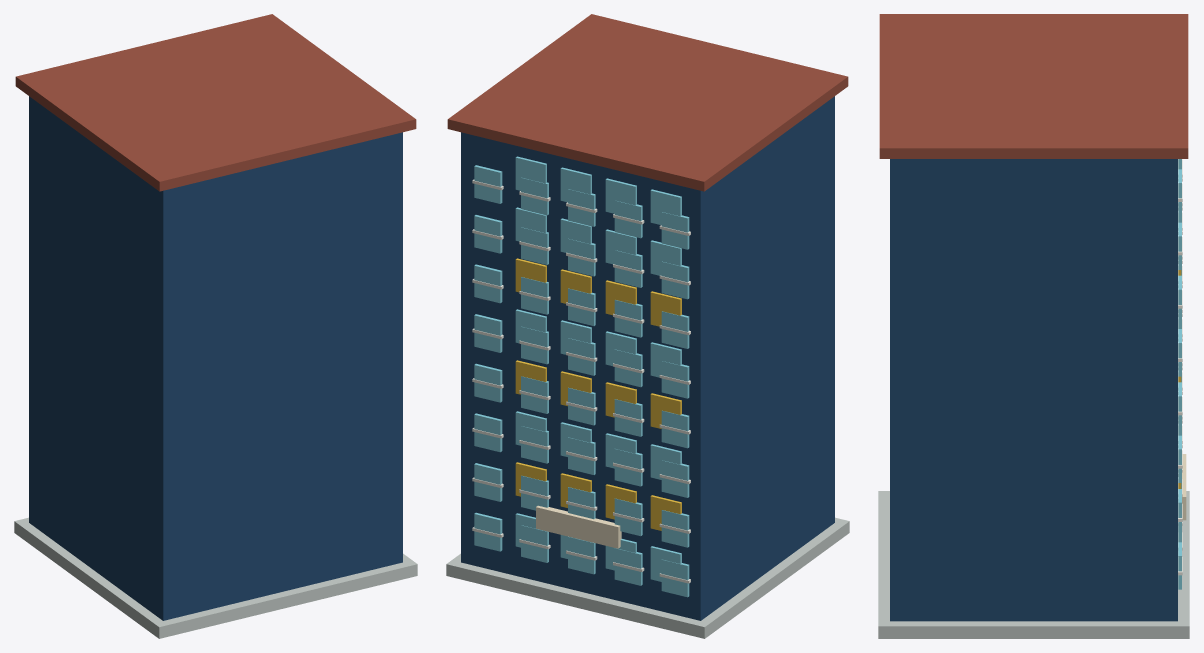
3 renders of one model, left to right at view 1: azimuth 30°, elevation 25°; view 2: azimuth 150°, elevation 25°; view 3: azimuth 270°, elevation 25°, orthographic. The views are drawn at different scales.
Visible parts, largest first — view 1: building, roof, plaza; view 2: building, roof, window (×40), office-window (×28), plaza, entrance-canopy; view 3: building, roof, plaza.
Part boxes in pixels (x1,y1,x2,y2): building: (29, 96, 402, 620); roof: (15, 14, 416, 191); plaza: (14, 517, 417, 638); building: (461, 96, 834, 620); roof: (447, 14, 848, 191); window (×40): (474, 165, 689, 597); office-window (×28): (515, 156, 681, 581); plaza: (446, 517, 849, 638); entrance-canopy: (536, 505, 621, 548); building: (890, 159, 1177, 621); roof: (879, 14, 1188, 158); plaza: (878, 491, 1189, 638).
Bounding box in the file's own units: 6.9 × 11.65 × 6.7.
